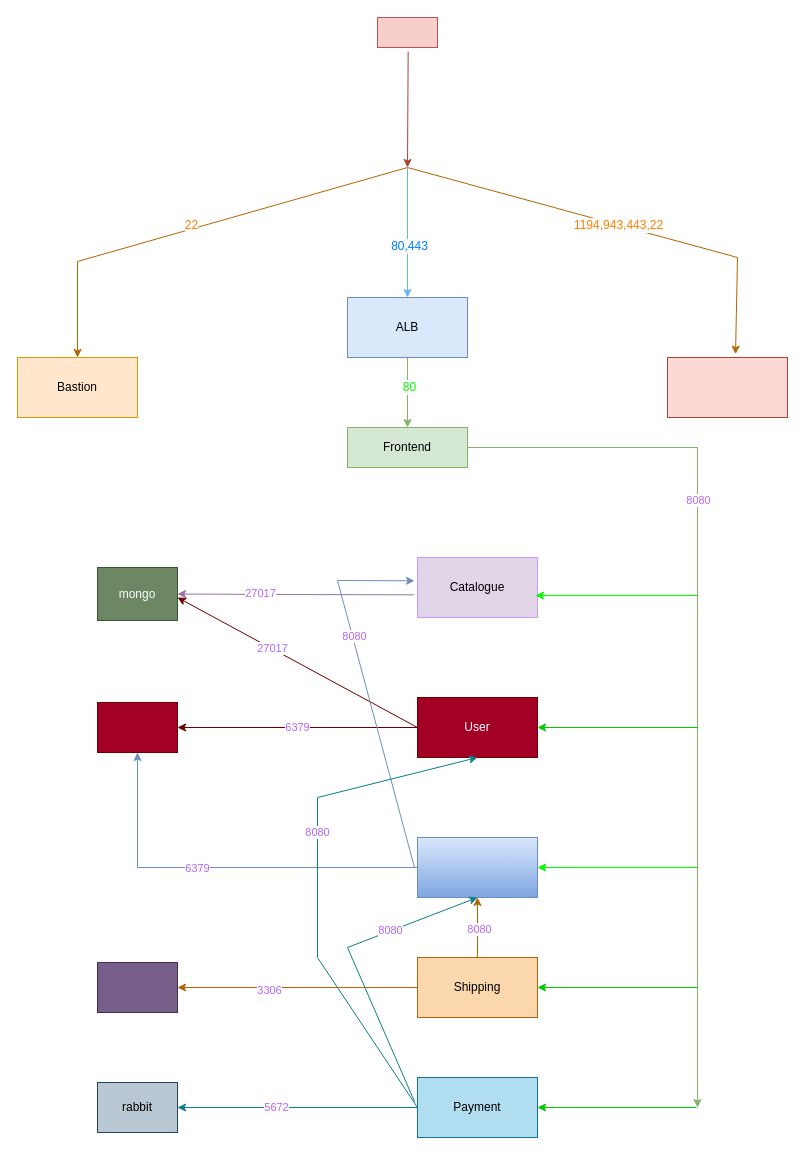
Some shapes in this 805 by 1155 pixel diagram are drawn without their labels. Here are the shapes that lost their labels. From the top down, the centre of each, then its label:
point 407,32: Internet
point 727,387: VPN
point 137,727: redis
point 477,867: Cart
point 137,987: mysql
